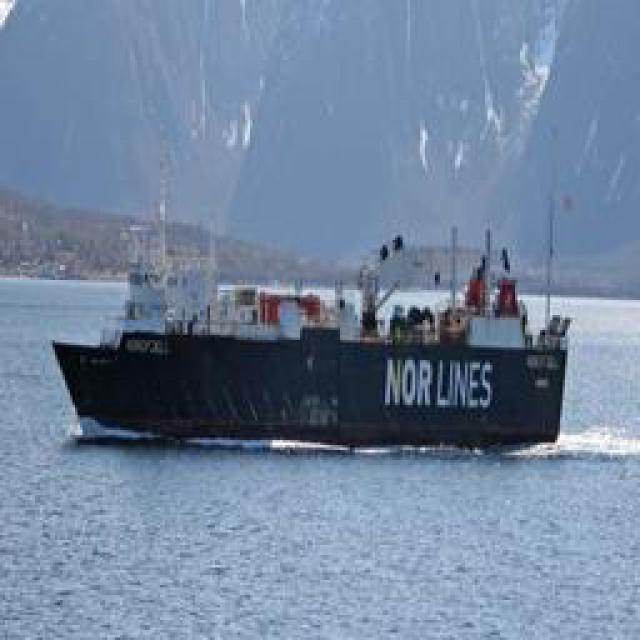Ship: (53, 176, 578, 449)
